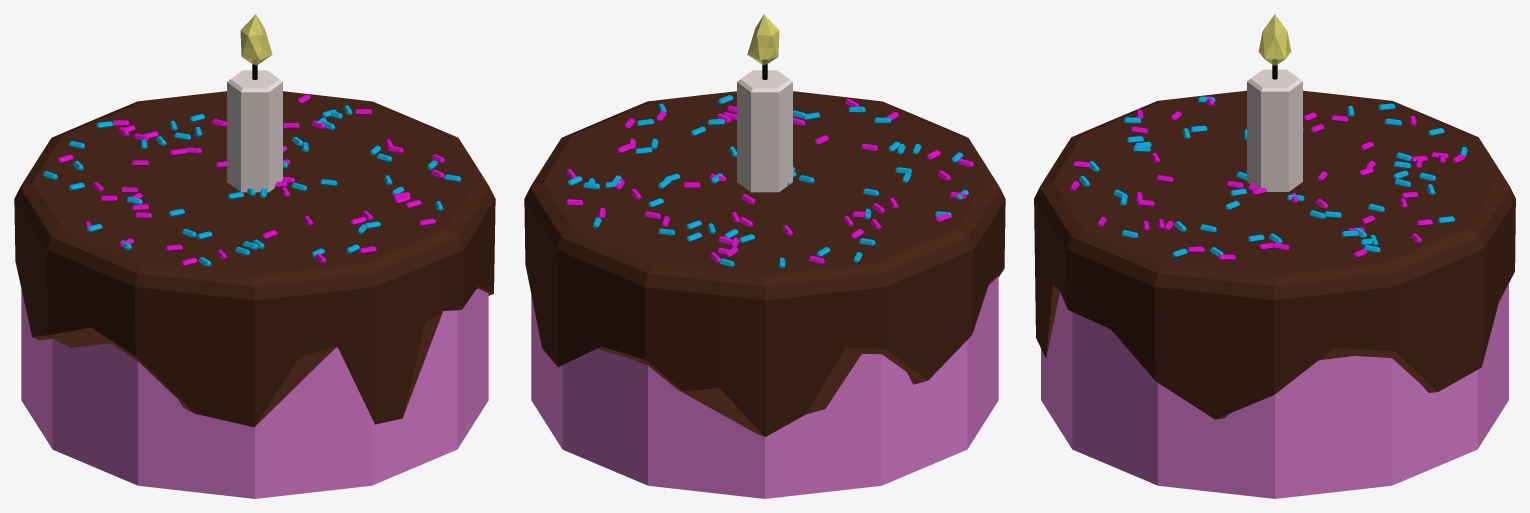
Rendered from cake.glb.
The picture shows the model from 3 angles, left to right: view 1: azimuth 30°, elevation 25°; view 2: azimuth 150°, elevation 25°; view 3: azimuth 270°, elevation 25°; orthographic projection.
Parts seen in each view (by area): view 1: Glaze, Cake, Candle, Glaze.002, Glaze.001, Fire; view 2: Glaze, Cake, Candle, Glaze.001, Glaze.002, Fire; view 3: Glaze, Cake, Candle, Glaze.001, Glaze.002, Fire.
Part boxes in pixels (x1,y1,x2,y2): Glaze: (14, 91, 495, 427); Cake: (21, 288, 488, 498); Candle: (227, 70, 282, 192); Glaze.002: (57, 94, 444, 266); Glaze.001: (43, 105, 460, 266); Fire: (240, 14, 272, 65); Glaze: (524, 91, 1005, 436); Cake: (531, 276, 998, 498); Candle: (737, 70, 792, 192); Glaze.001: (567, 95, 968, 268); Glaze.002: (566, 98, 973, 264); Fire: (747, 14, 779, 65); Glaze: (1034, 90, 1515, 419); Cake: (1041, 283, 1508, 498); Candle: (1247, 69, 1302, 191); Glaze.001: (1079, 96, 1467, 257); Glaze.002: (1069, 96, 1465, 260); Fire: (1258, 14, 1291, 65).
Size of the model in its own units: 2.06 by 1.82 by 2.06.
